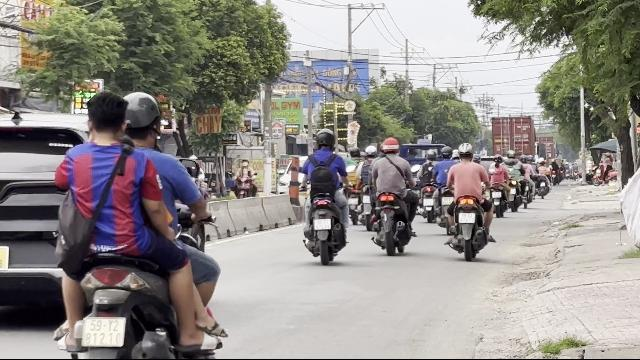helmet: (120, 90, 162, 148), (313, 128, 335, 150), (380, 136, 400, 158), (457, 143, 477, 163)
licenseplate: (82, 316, 125, 346), (314, 219, 330, 229), (459, 213, 475, 223)
motorcyclist: (47, 90, 225, 358), (299, 127, 351, 263), (443, 142, 499, 264), (370, 136, 418, 258)
nohelmet: (84, 91, 128, 141)
